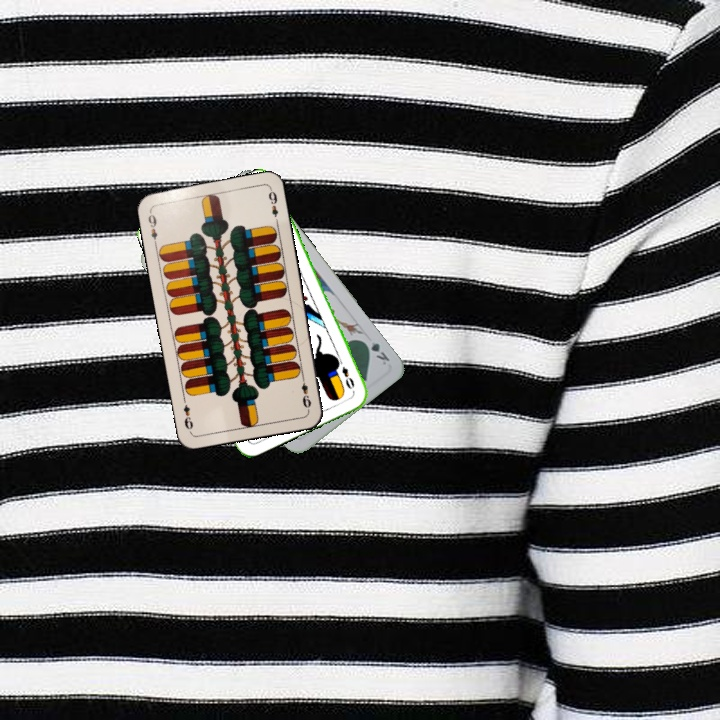E9: (297, 372, 314, 412), (144, 207, 160, 248)
EO: (333, 355, 357, 392)
GK: (359, 336, 392, 368)
